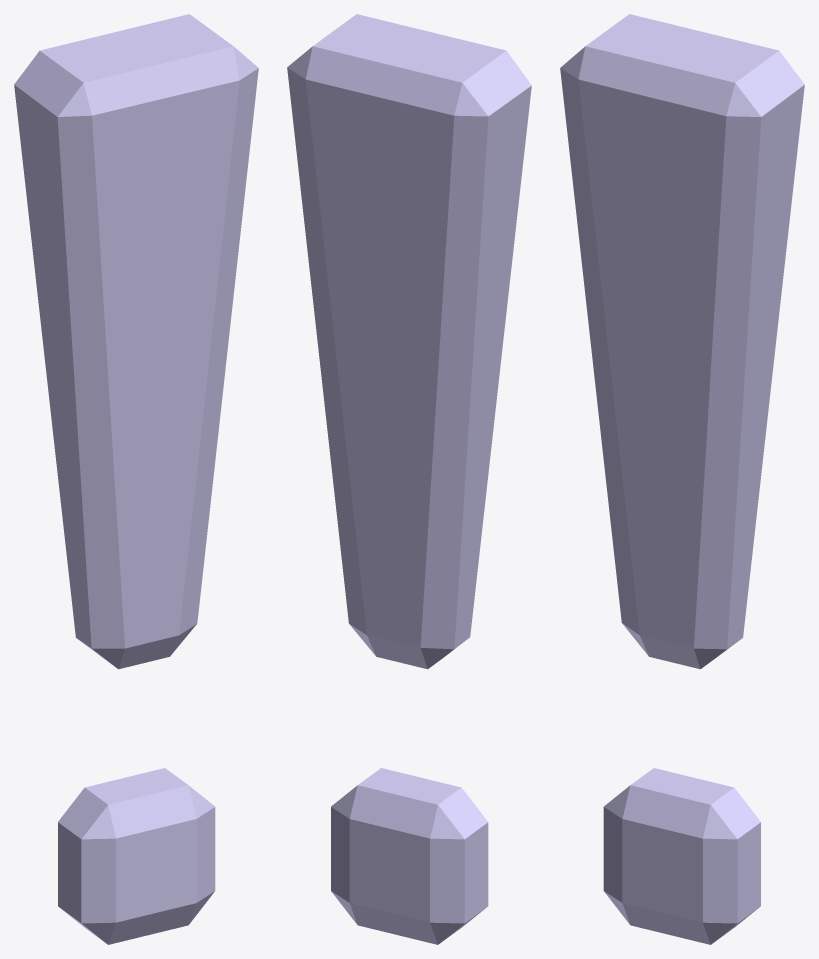
The model's file is Exclamation_mark_2.fbx.
3 views of the same model, side by side, from view 1: azimuth 30°, elevation 25°; view 2: azimuth 150°, elevation 25°; view 3: azimuth 330°, elevation 25° (orthographic).
Visible parts, largest first — view 1: Exclamation_mark_2; view 2: Exclamation_mark_2; view 3: Exclamation_mark_2.
Part boxes in pixels (x1,y1,x2,y2): Exclamation_mark_2: (14,14,258,944); Exclamation_mark_2: (287,14,531,944); Exclamation_mark_2: (560,14,804,944).
Bounding box in the file's own units: 0.5656 × 2.36 × 0.288.
